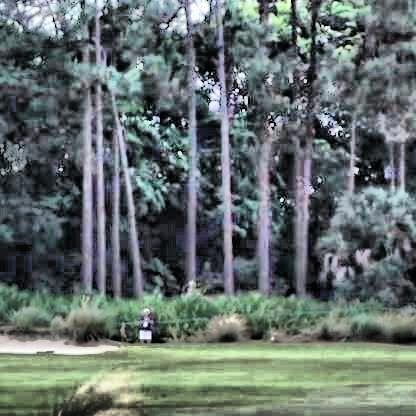golfball: (206, 98, 216, 109)
